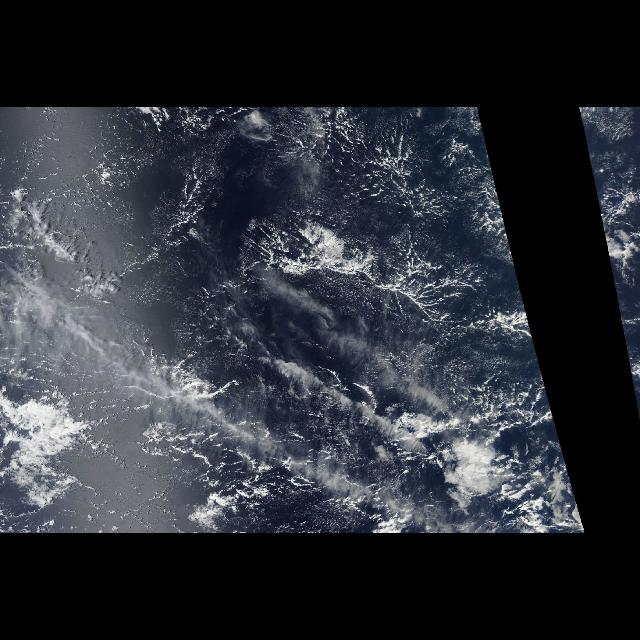Fish: (18, 112, 570, 528)
Gravel: (373, 130, 541, 364), (147, 420, 443, 530)
Sugar: (6, 110, 536, 348)
